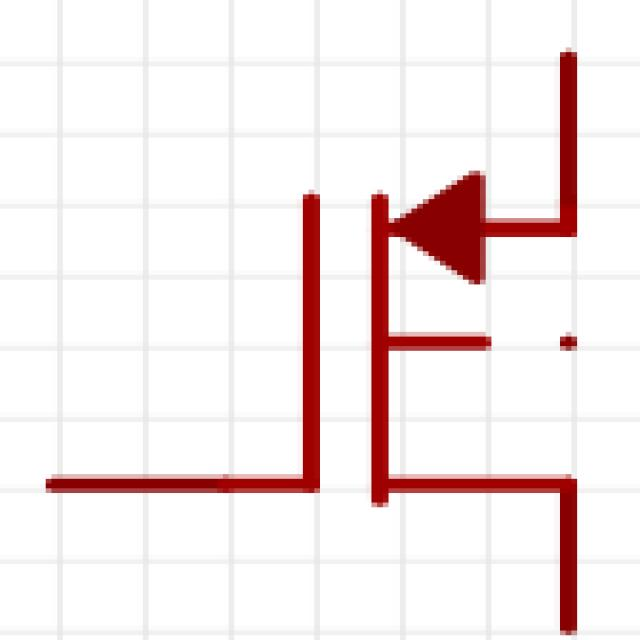pmos: (89, 115, 640, 640)
